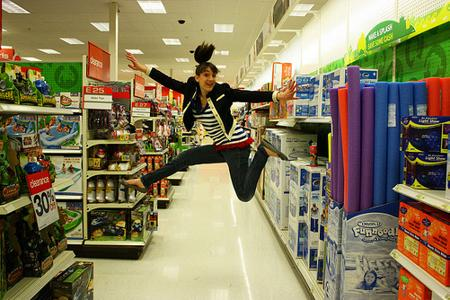person: (125, 41, 295, 204)
